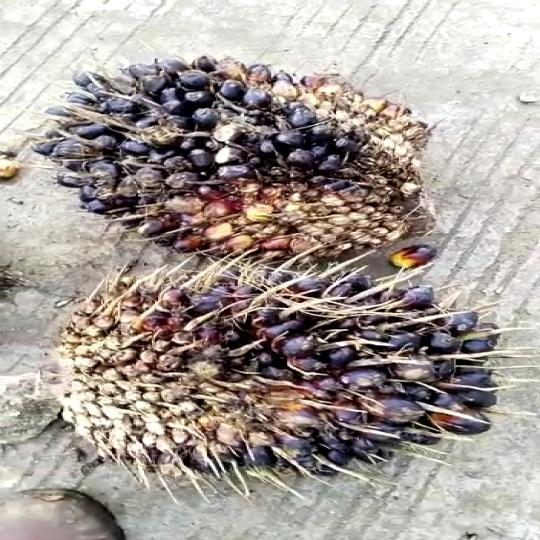mentah: (43, 270, 496, 504), (51, 53, 452, 305)
